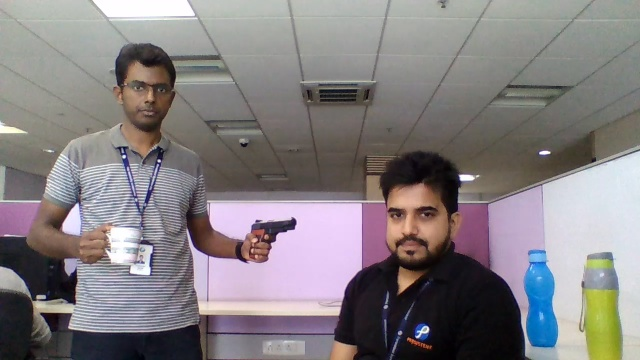gun: (251, 219, 296, 233)
